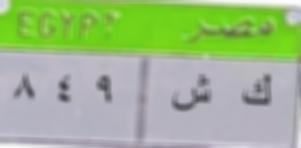4: (53, 71, 74, 105)
8: (11, 68, 39, 108)
9: (90, 69, 126, 109)
kaaf: (234, 68, 280, 111)
sheen: (170, 74, 215, 118)
